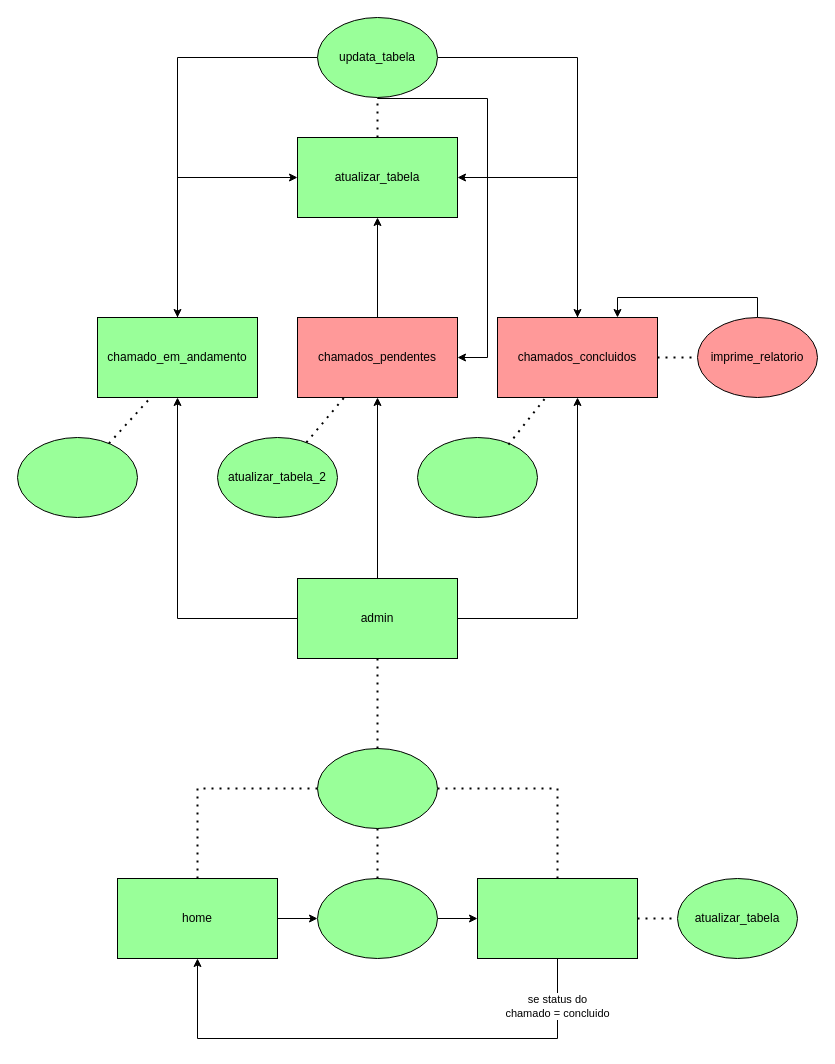
The diagram is 835 pixels wide and 1064 high, and some of its shapes have lost their labels. Each missing label, with the centre of its shape:
abertura_chamado: the point at 377,918
atualizar_tabela_1: the point at 77,477
atualizar_tabela_3: the point at 477,477
chamado: the point at 557,918
conexao com BD: the point at 377,788
